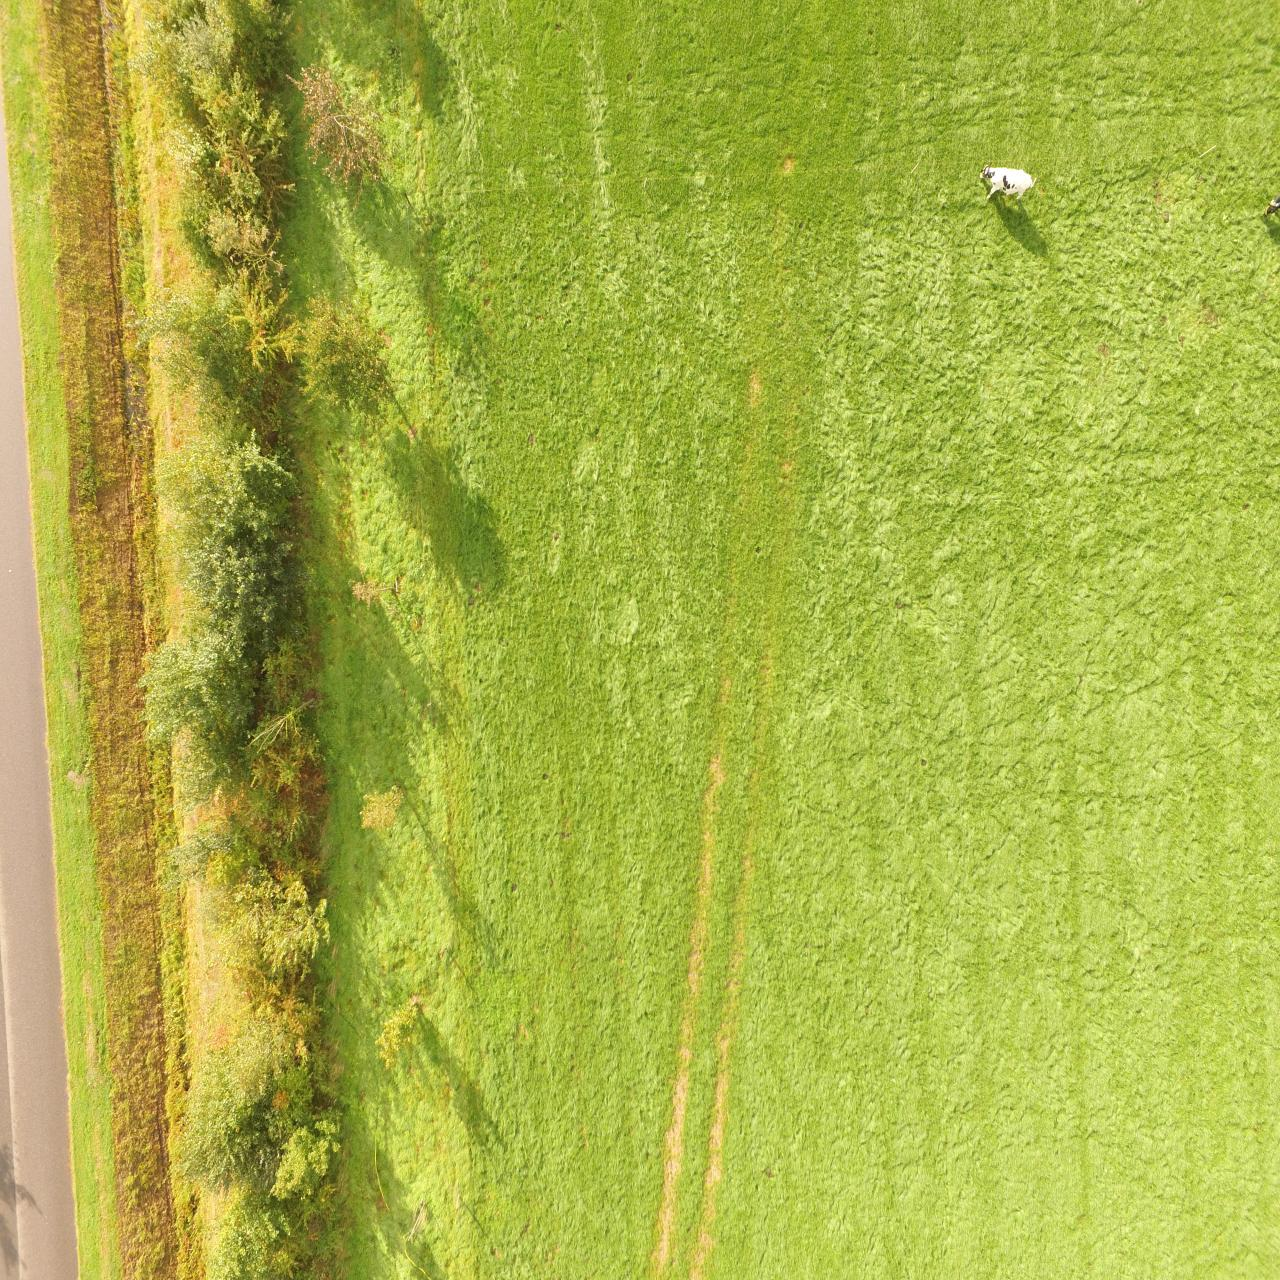cow: (976, 161, 1036, 210)
